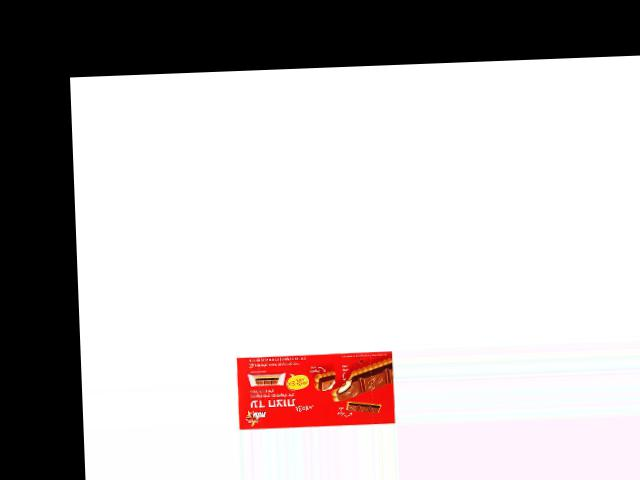chocolate: (233, 350, 395, 430)
